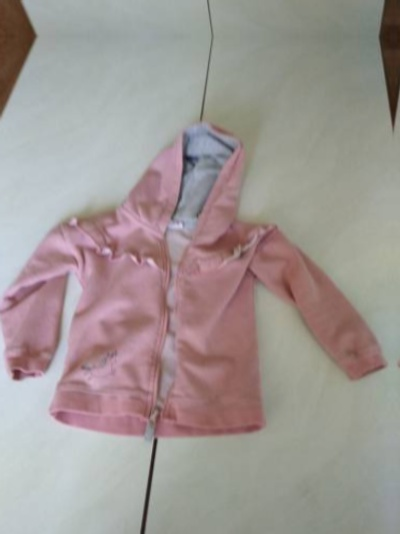Hoodie: (0, 98, 378, 437)
